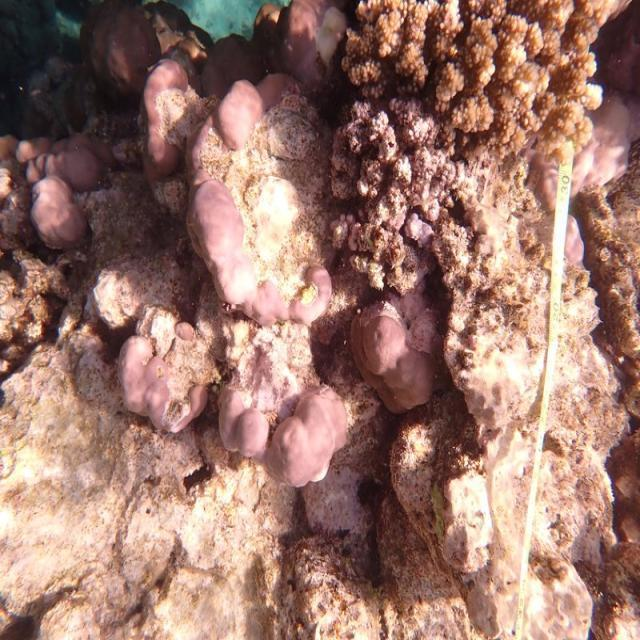Bleached Coral: (256, 176, 309, 237)
Healthy Coral: (125, 306, 381, 480)
